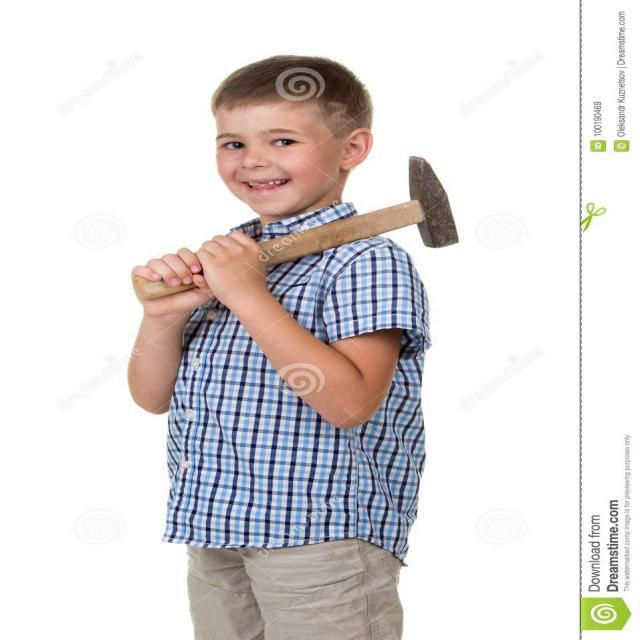hammer: (123, 152, 466, 304)
